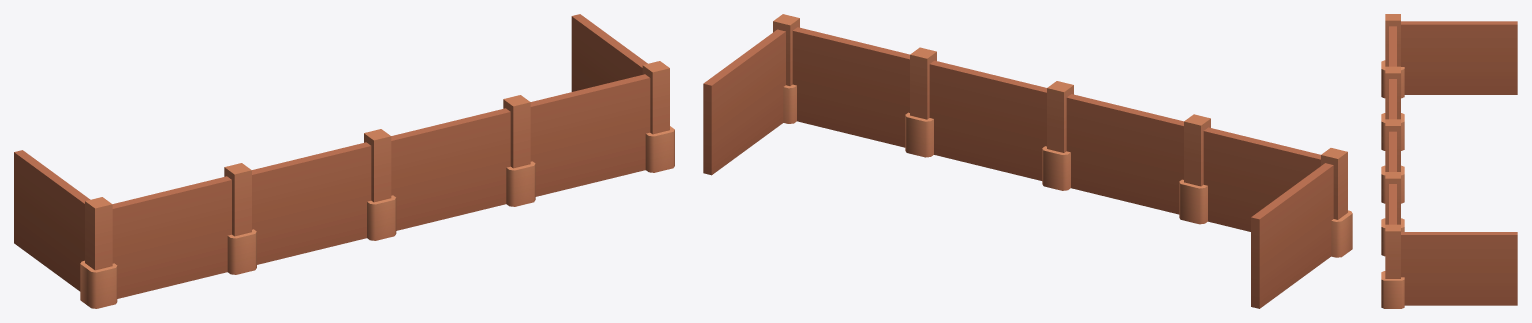
File: fence-1x4.glb
3 renders of one model, left to right at view 1: azimuth 30°, elevation 25°; view 2: azimuth 150°, elevation 25°; view 3: azimuth 270°, elevation 25°, orthographic. The views are drawn at different scales.
Visible parts, largest first — view 1: fence-1x4; view 2: fence-1x4; view 3: fence-1x4.
Boxes of the visible parts, x1,y1,x2,y2 form: fence-1x4: [14, 14, 674, 308]; fence-1x4: [703, 14, 1352, 308]; fence-1x4: [1381, 14, 1517, 308].
Size of the model in its own units: 1.68 by 0.2699 by 0.4374.
Materials: 1 (1 with a texture image).
